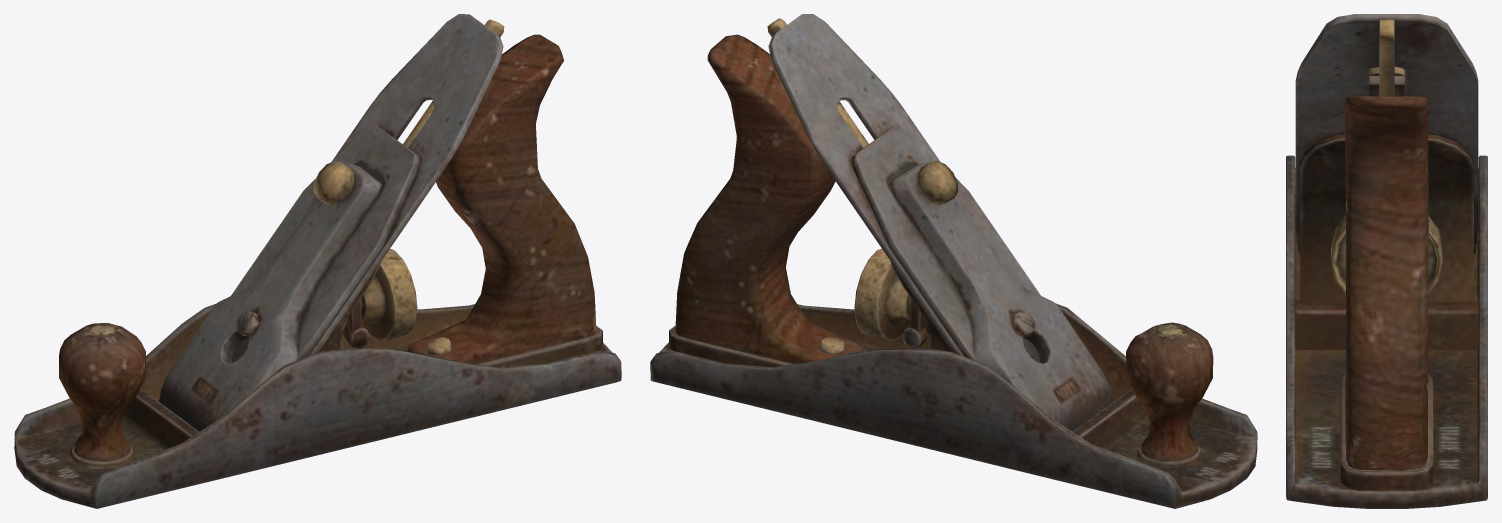
The model's file is hand_plane_no4.glb.
3 views of the same model, side by side, from view 1: azimuth 30°, elevation 25°; view 2: azimuth 150°, elevation 25°; view 3: azimuth 270°, elevation 25° (orthographic). The views are drawn at different scales.
Visible parts, largest first — view 1: hand_plane_no4; view 2: hand_plane_no4; view 3: hand_plane_no4.
Part boxes in pixels (x1=…): hand_plane_no4: x1=14, y1=14, x2=621, y2=508; hand_plane_no4: x1=650, y1=14, x2=1257, y2=508; hand_plane_no4: x1=1286, y1=14, x2=1487, y2=508.
Bounding box in the file's own units: 0.3308 × 0.1978 × 0.0843.
Materials: 1 (1 with a texture image).
